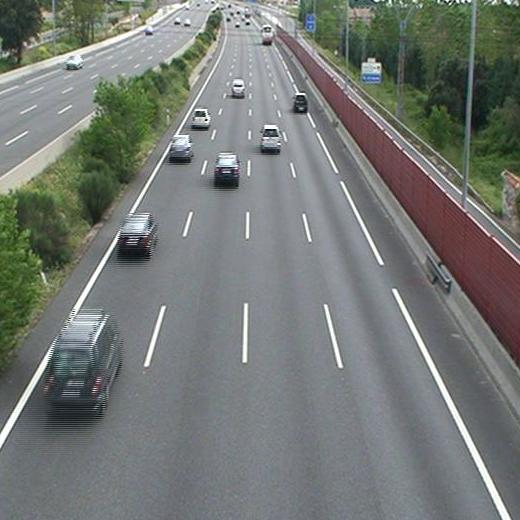bus: (261, 25, 272, 45)
car: (46, 316, 119, 403), (119, 214, 156, 249), (215, 155, 239, 180), (170, 135, 192, 158), (261, 125, 281, 148), (191, 110, 210, 127), (294, 93, 308, 111), (232, 80, 245, 96)
